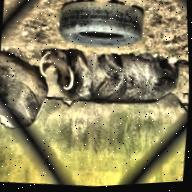boar: (37, 39, 180, 122)
